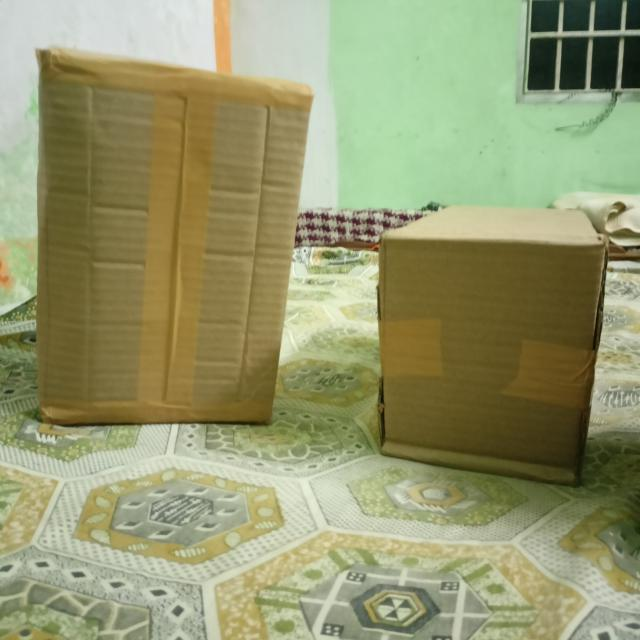box: (36, 55, 315, 424), (382, 244, 606, 478)
